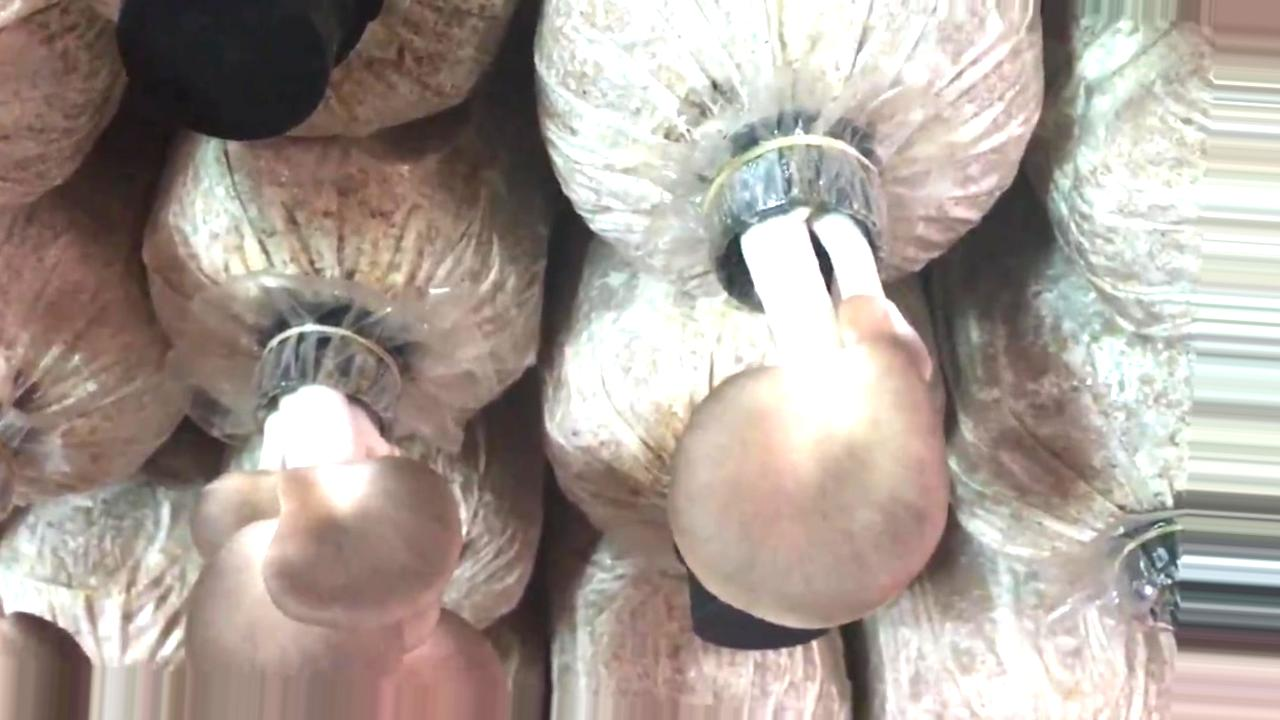nam: (674, 142, 945, 627), (183, 342, 506, 719), (1, 617, 93, 718)
